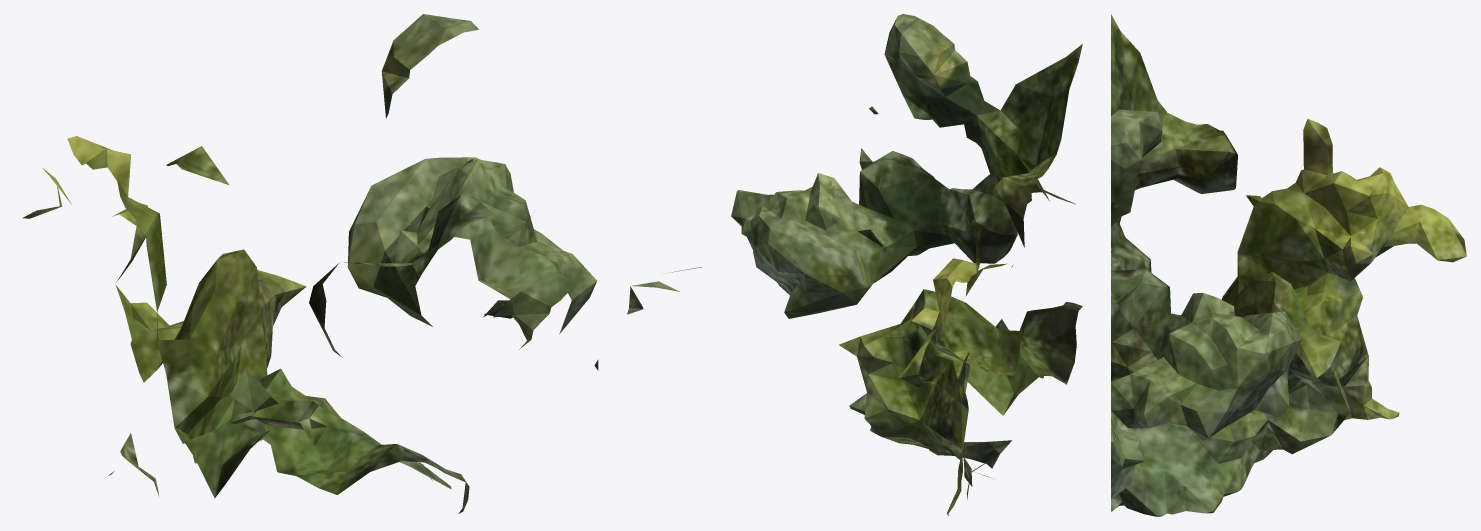
The picture shows the model from 3 angles, left to right: view 1: azimuth 30°, elevation 25°; view 2: azimuth 150°, elevation 25°; view 3: azimuth 270°, elevation 25°; orthographic projection. The views are drawn at different scales.
Bounding box in the file's own units: 6.75 × 6.99 × 5.6.
2 materials, 2 textured.
